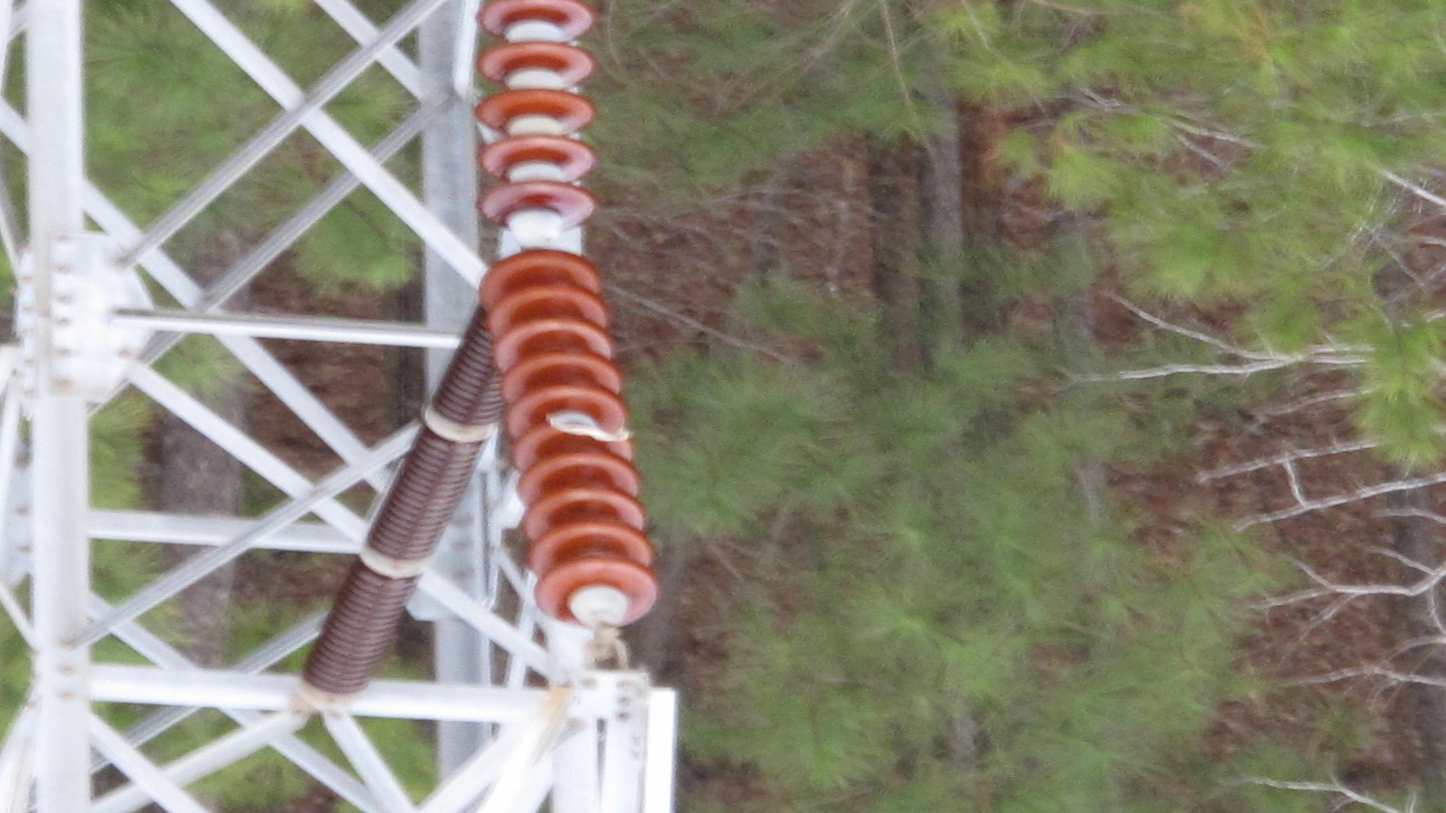insulator: (296, 305, 501, 699), (477, 244, 664, 633), (470, 1, 604, 236)
insulator_breakage: (545, 414, 634, 446)
